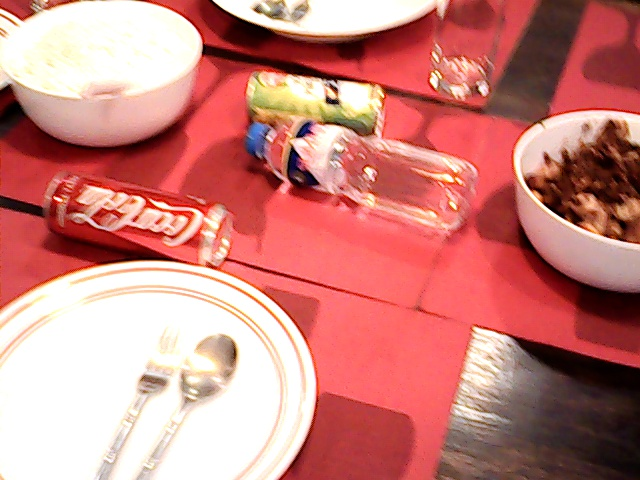Cola: (53, 167, 224, 267)
Pine Juice: (241, 55, 382, 122)
Summit Water: (255, 123, 467, 222)
